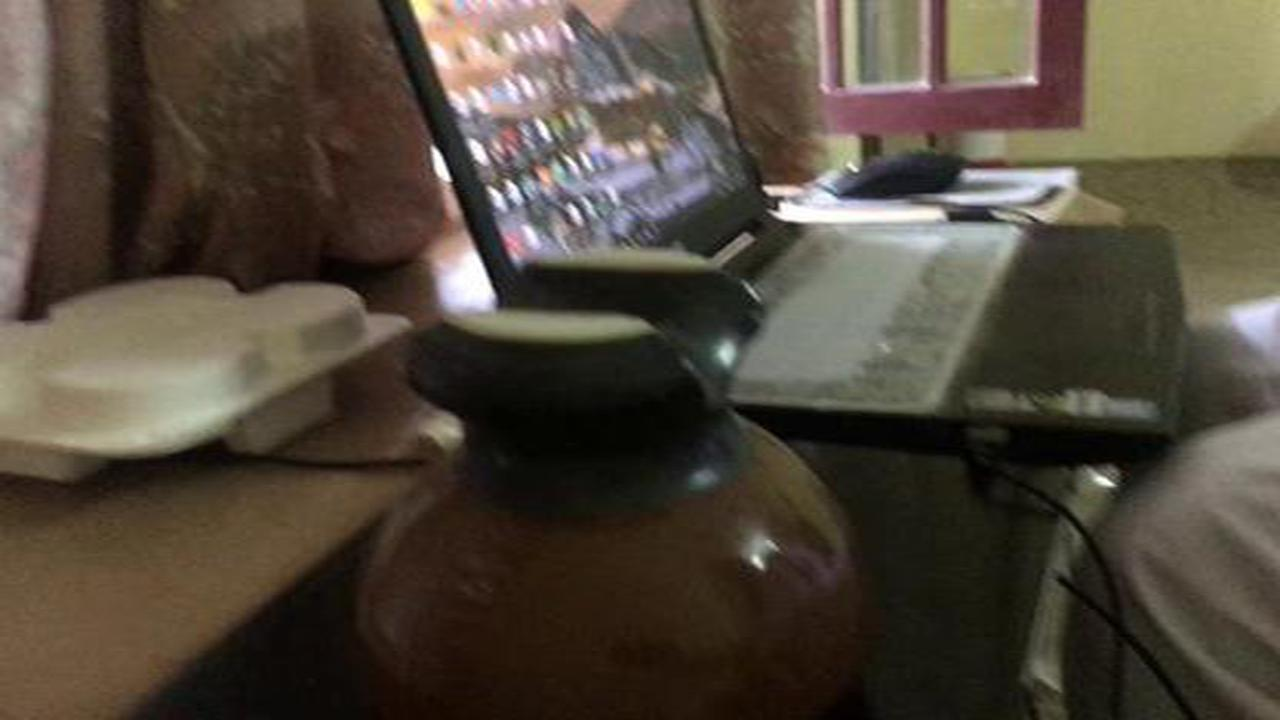insulator_pin: (333, 235, 899, 719)
